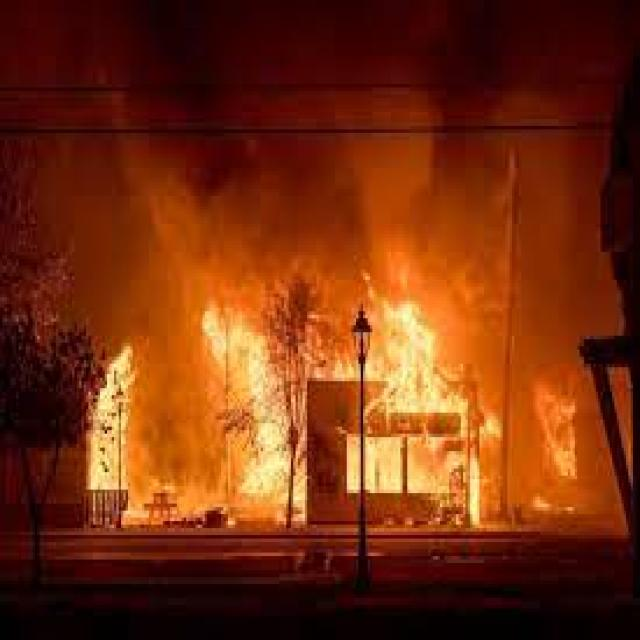fire: (90, 232, 532, 557)
